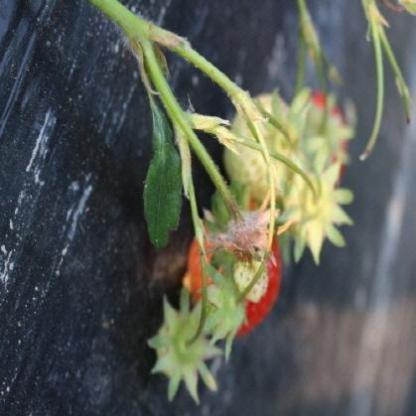Strawberry_Gray_Mold: (199, 188, 297, 267)
